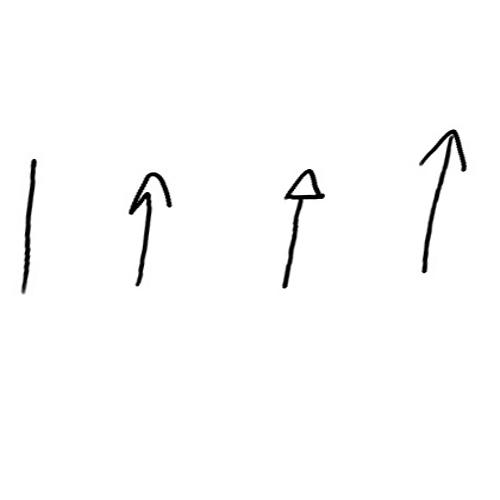arrow: (421, 122, 468, 273), (277, 167, 320, 291), (132, 169, 174, 288), (22, 157, 43, 296)
